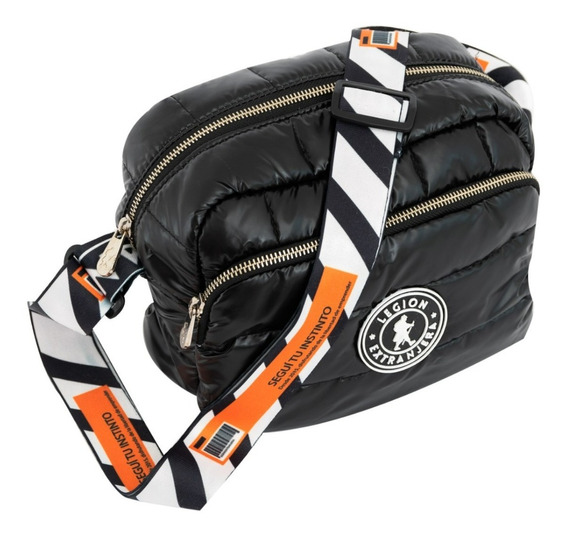cartera: (120, 26, 544, 432)
